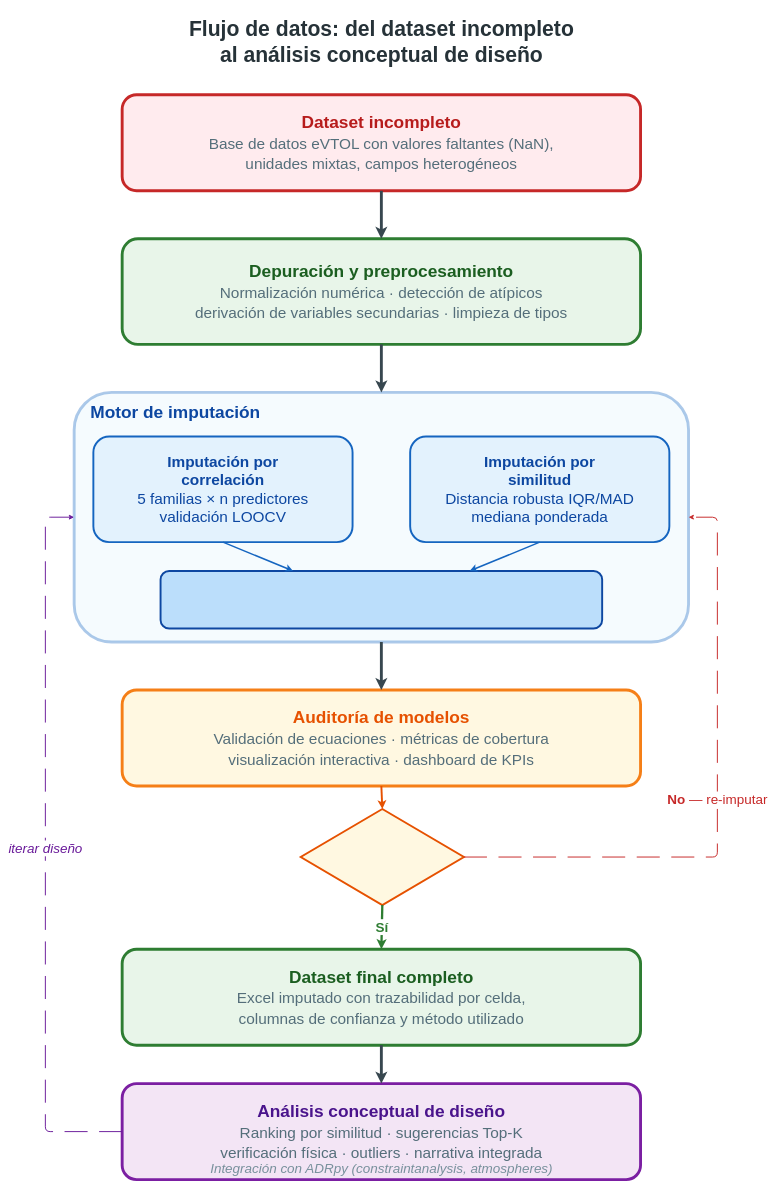
The diagram is 775 pixels wide and 1189 high, and some of its shapes have lost their labels. The centre of each missing label's shape, as x and y in pixels:
"Selección del mejor modelo MAPE, R², métricas de confianza → fusión" belongs at [381,599].
"¿Modelos aceptables?" belongs at [382,857].
